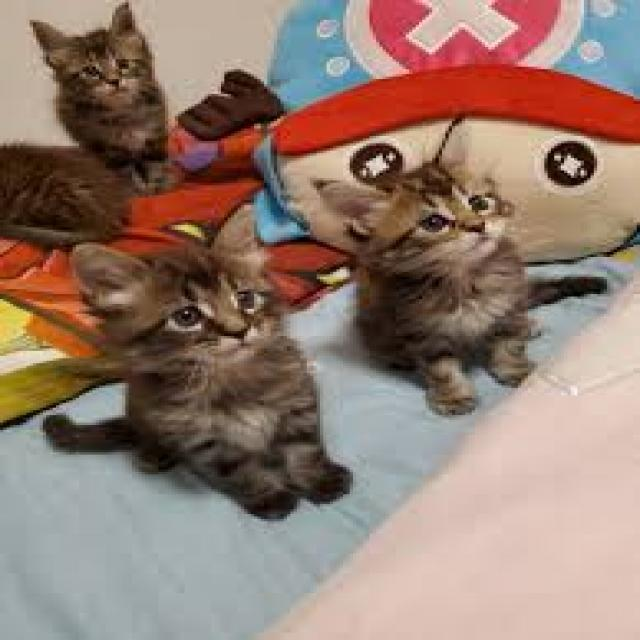cat: (47, 233, 400, 550), (325, 133, 587, 414), (6, 2, 270, 190)
